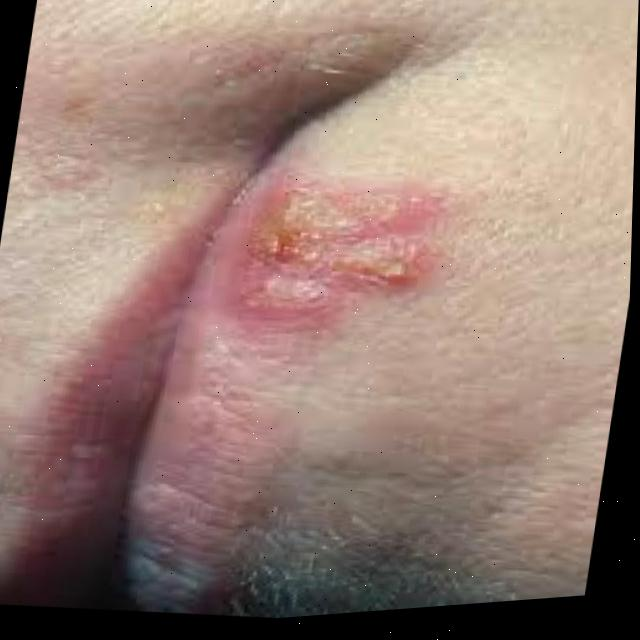Eczema: (226, 151, 452, 345)
